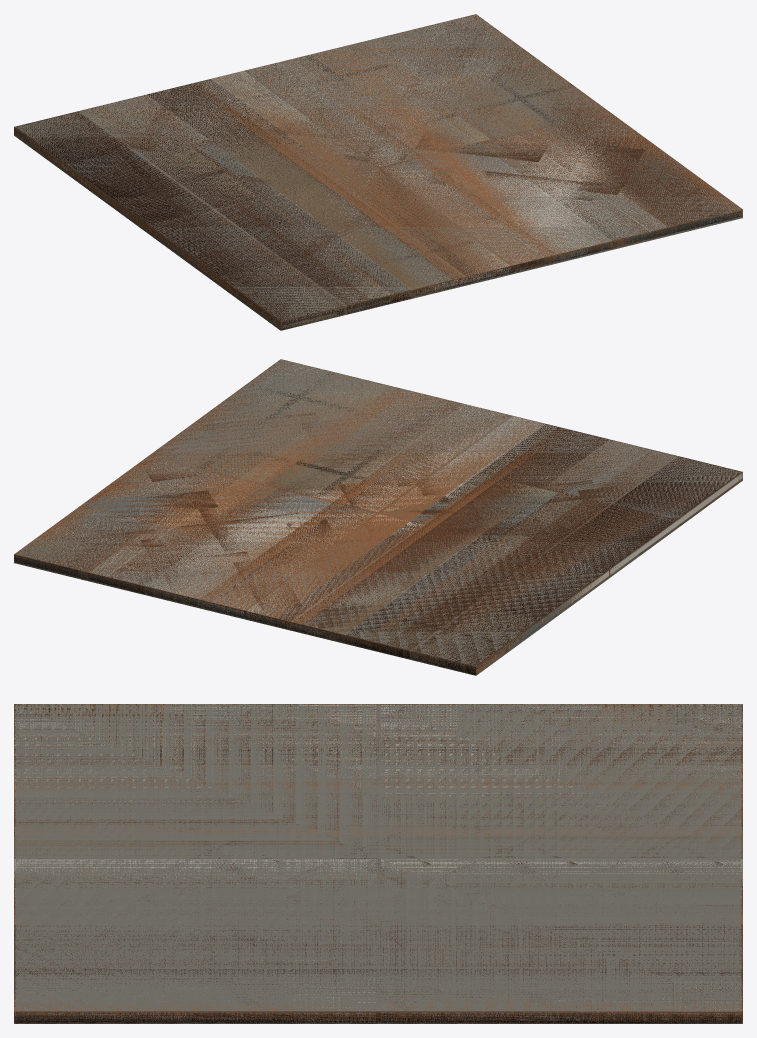
File: asset_059_renovated_flooring_set.glb
The picture shows the model from 3 angles, top to bottom: view 1: azimuth 30°, elevation 25°; view 2: azimuth 150°, elevation 25°; view 3: azimuth 270°, elevation 25°; orthographic projection. The views are drawn at different scales.
Visible parts, largest first — view 1: MESH_FloorConcreteLuxurySlabField, MESH_FloorDarkWoodPlankField, MESH_FloorHardwoodStandardPlankField, MESH_FloorHardwoodMunicipalPlankField, MESH_FloorConcreteHighEndSlabField, MESH_FloorHardwoodHighEndPlankField, MESH_FloorLuxuryHardwoodMunicipalPlankField, MESH_FloorCreamTileTileField, MESH_FloorHardwoodLuxuryPlankField, MESH_FloorOakPlankField, MESH_FloorConcreteMunicipalSlabField, MESH_FloorMarblePremiumTileField (+16 smaller); view 2: MESH_FloorConcreteLuxurySlabField, MESH_FloorDarkWoodPlankField, MESH_FloorHardwoodStandardPlankField, MESH_FloorConcreteHighEndSlabField, MESH_FloorLuxuryHardwoodLuxuryPlankField, MESH_FloorLuxuryHardwoodHighEndPlankField, MESH_FloorHardwoodHighEndPlankField, MESH_FloorHardwoodMunicipalPlankField, MESH_FloorCreamTileTileField, MESH_FloorMarblePremiumTileField, MESH_FloorStoneTilePremiumTileField, MESH_FloorConcreteMunicipalSlabField (+19 smaller); view 3: MESH_FloorConcreteLuxurySlabField, MESH_FloorConcretePremiumSlabField, MESH_FloorConcreteHighEndSlabField, MESH_FloorConcreteStandardSlabField, MESH_FloorDarkWoodPlankField, MESH_FloorMarbleMunicipalTileField, MESH_FloorHardwoodMunicipalPlankField, MESH_FloorOakPlankField, MESH_FloorLuxuryHardwoodLuxuryPlankField, MESH_FloorHardwoodLuxuryPlankField, MESH_FloorConcreteMunicipalSlabField, MESH_FloorHardwoodPremiumPlankField (+14 smaller).
Boxes of the visible parts, x1,y1,x2,y2 form: MESH_FloorConcreteLuxurySlabField: (16,15,739,320); MESH_FloorDarkWoodPlankField: (15,16,694,330); MESH_FloorHardwoodStandardPlankField: (14,16,608,321); MESH_FloorHardwoodMunicipalPlankField: (14,14,742,327); MESH_FloorConcreteHighEndSlabField: (14,15,742,330); MESH_FloorHardwoodHighEndPlankField: (14,18,742,327); MESH_FloorLuxuryHardwoodMunicipalPlankField: (143,18,742,322); MESH_FloorCreamTileTileField: (17,22,593,328); MESH_FloorHardwoodLuxuryPlankField: (14,15,742,327); MESH_FloorOakPlankField: (14,14,742,330); MESH_FloorConcreteMunicipalSlabField: (73,17,740,320); MESH_FloorMarblePremiumTileField: (17,16,731,325); MESH_FloorConcreteLuxurySlabField: (20,360,740,665); MESH_FloorDarkWoodPlankField: (14,368,741,674); MESH_FloorHardwoodStandardPlankField: (80,361,740,668); MESH_FloorConcreteHighEndSlabField: (14,359,716,675); MESH_FloorLuxuryHardwoodLuxuryPlankField: (57,382,737,671); MESH_FloorLuxuryHardwoodHighEndPlankField: (14,407,630,658); MESH_FloorHardwoodHighEndPlankField: (14,370,685,672); MESH_FloorHardwoodMunicipalPlankField: (14,360,742,666); MESH_FloorCreamTileTileField: (16,364,683,672); MESH_FloorMarblePremiumTileField: (22,360,742,670); MESH_FloorStoneTilePremiumTileField: (26,377,742,668); MESH_FloorConcreteMunicipalSlabField: (16,363,686,663); MESH_FloorConcreteLuxurySlabField: (15,704,741,1011); MESH_FloorConcretePremiumSlabField: (15,706,741,1011); MESH_FloorConcreteHighEndSlabField: (14,704,742,1023); MESH_FloorConcreteStandardSlabField: (15,704,741,1010); MESH_FloorDarkWoodPlankField: (14,704,742,1023); MESH_FloorMarbleMunicipalTileField: (14,704,742,1020); MESH_FloorHardwoodMunicipalPlankField: (14,705,742,1020); MESH_FloorOakPlankField: (14,704,742,1023); MESH_FloorLuxuryHardwoodLuxuryPlankField: (15,708,741,1011); MESH_FloorHardwoodLuxuryPlankField: (15,704,741,1020); MESH_FloorConcreteMunicipalSlabField: (15,704,741,829); MESH_FloorHardwoodPremiumPlankField: (14,710,742,1020).
Bounding box in the file's own units: 1 × 0.018 × 1.
48 materials, 7 textured.
